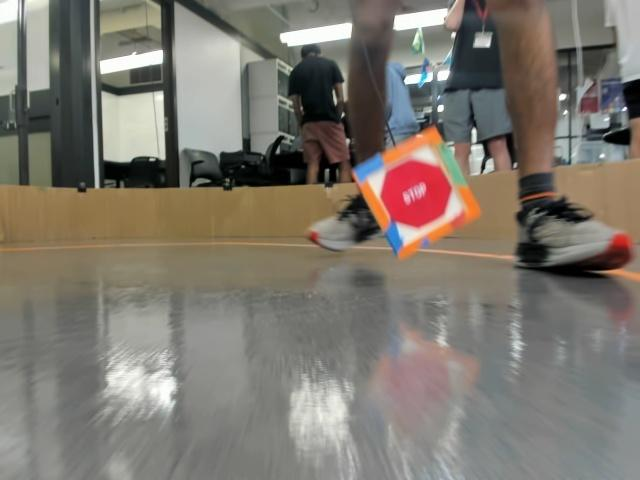Stop: (371, 177, 438, 243)
